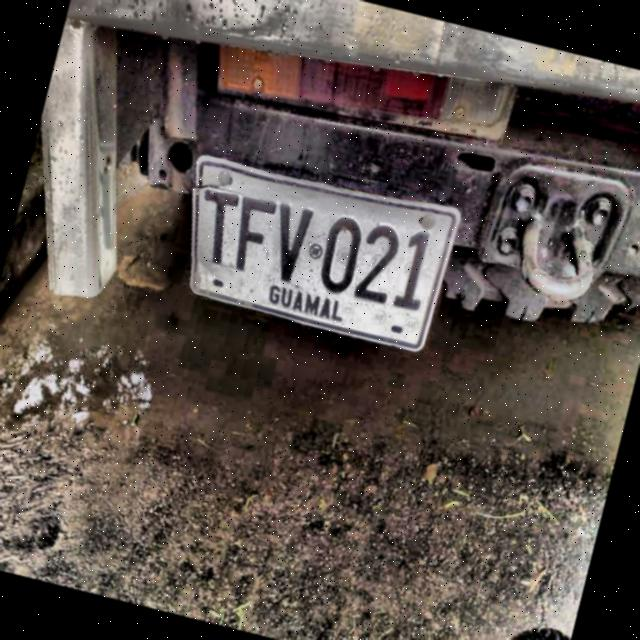0: (316, 212, 366, 299)
1: (391, 226, 437, 313)
2: (350, 220, 403, 307)
F: (230, 194, 277, 276)
T: (199, 188, 240, 267)
V: (273, 201, 316, 285)
